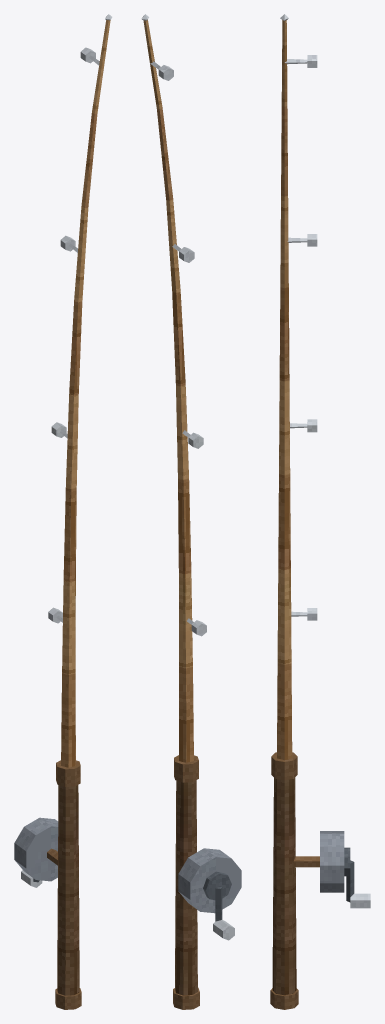
3 views of the same model, side by side, from view 1: azimuth 30°, elevation 25°; view 2: azimuth 210°, elevation 25°; view 3: azimuth 270°, elevation 25° (orthographic). The views are drawn at different scales.
Parts seen in each view (by area): view 1: Rod_wood; view 2: Rod_wood; view 3: Rod_wood.
Boxes of the visible parts, left/top/right/bottom form: Rod_wood: left=14, top=14, right=112, bottom=1009; Rod_wood: left=141, top=14, right=241, bottom=1009; Rod_wood: left=270, top=14, right=370, bottom=1009.
Bounding box in the file's own units: 0.1626 × 2.2 × 0.198.
Materials: 7 (7 with a texture image).
